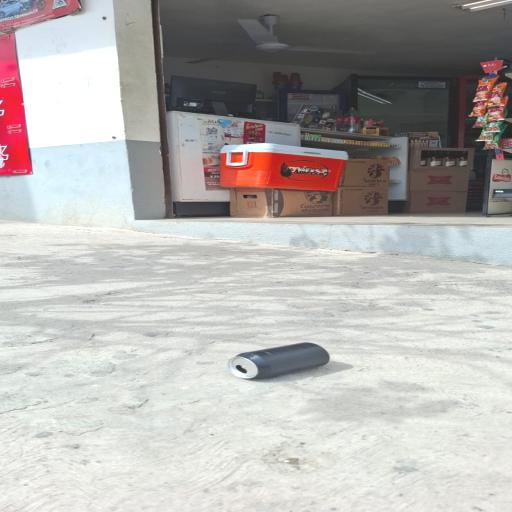LATA: (205, 340, 360, 390)
